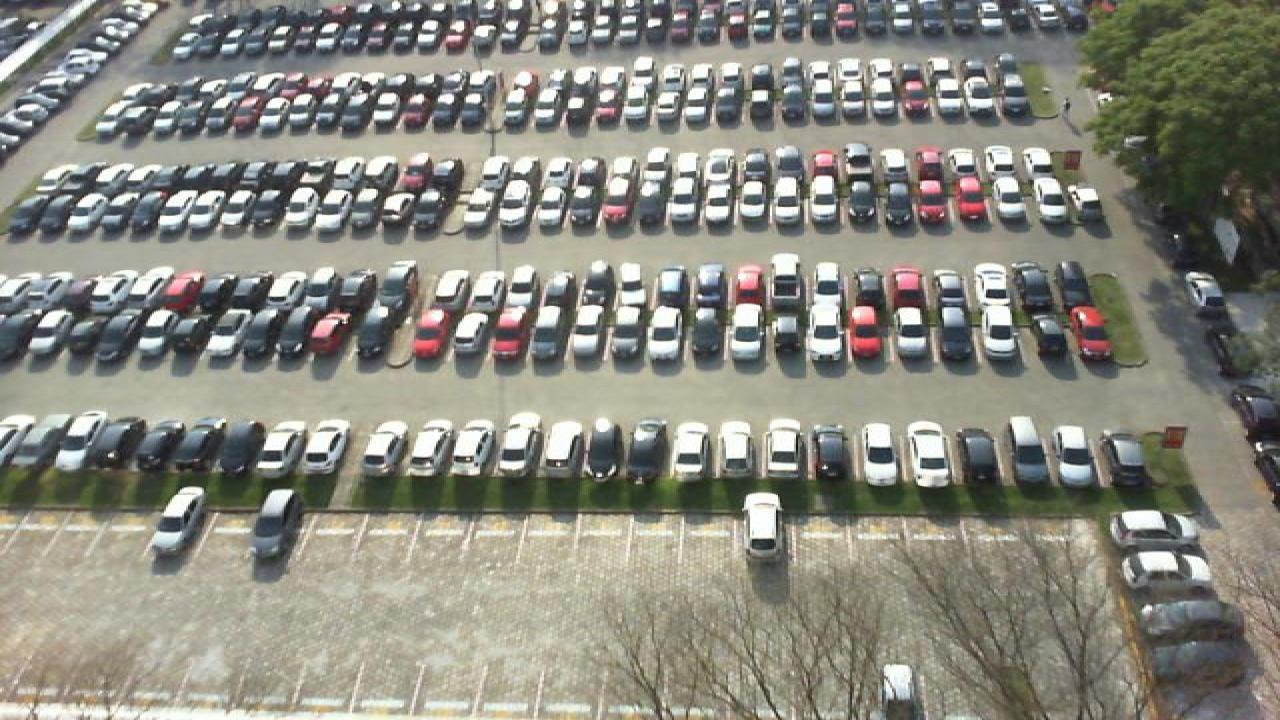Car: (1118, 548, 1222, 597), (1128, 580, 1234, 628), (150, 485, 208, 557), (1110, 508, 1208, 550), (248, 487, 304, 558), (48, 411, 104, 474), (740, 491, 786, 562), (1004, 415, 1050, 485), (492, 413, 540, 479), (904, 421, 952, 487), (860, 422, 904, 487), (302, 417, 350, 476), (1102, 430, 1152, 486), (448, 416, 494, 476), (1054, 428, 1100, 488), (258, 419, 308, 474), (540, 420, 588, 477), (358, 420, 408, 474), (1066, 305, 1114, 360), (670, 421, 716, 478), (626, 417, 670, 476), (218, 420, 266, 474), (766, 419, 808, 480), (810, 423, 854, 481), (878, 665, 924, 720), (406, 419, 452, 474), (954, 428, 1000, 483), (486, 303, 530, 360), (716, 420, 758, 479), (568, 300, 610, 359), (978, 303, 1022, 359), (144, 419, 192, 470), (1020, 305, 1066, 358), (586, 415, 624, 479), (528, 305, 572, 360), (104, 420, 152, 470), (184, 420, 230, 472), (446, 306, 490, 360), (846, 305, 888, 361), (686, 304, 728, 360), (646, 304, 688, 360), (938, 305, 980, 360), (894, 304, 936, 359), (766, 305, 808, 360), (270, 306, 314, 358), (196, 308, 240, 360), (164, 307, 208, 359), (356, 306, 400, 357), (128, 308, 172, 359), (726, 303, 766, 359), (608, 303, 648, 359), (408, 306, 450, 359), (234, 308, 276, 361), (92, 308, 136, 358), (56, 310, 100, 360), (308, 310, 352, 359), (808, 304, 846, 360), (20, 312, 64, 360), (0, 414, 38, 467), (0, 312, 28, 358)
